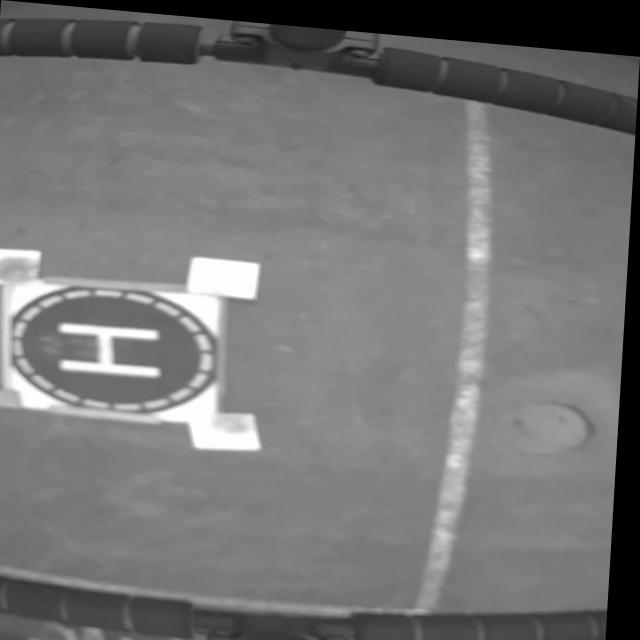Helipad: (62, 321, 165, 375)
